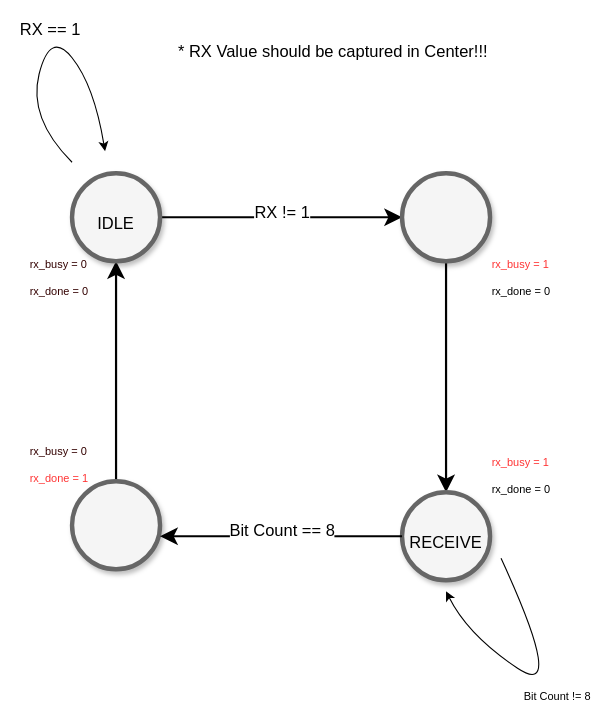
Some shapes in this 608 by 723 pixel diagram are drawn without their labels. The centre of each missing label's shape, as x and y in pixels:
"START" goes at point 446,218.
"STOP" goes at point 116,526.
